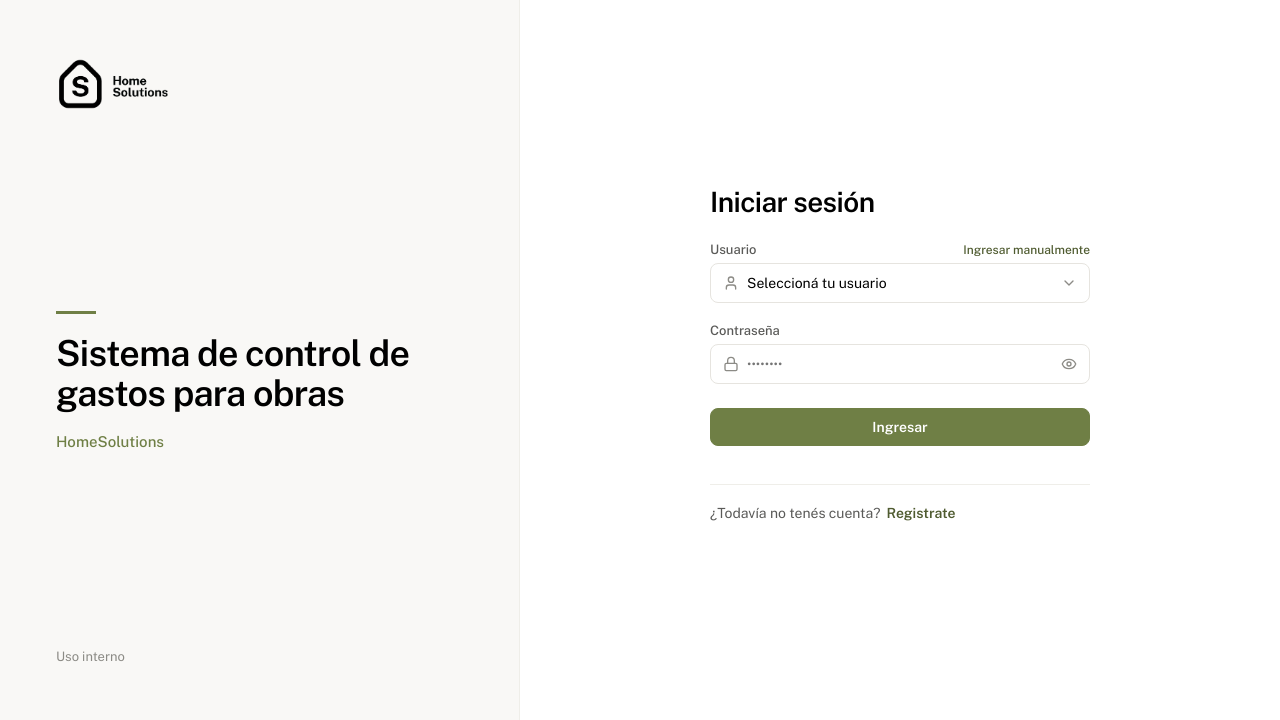
Test: Login › muestra el mensaje real (no genérico) si login falla por un error que no es 401
This screenshot has width=1280, height=720.
Select "Agustin" in the dropdown. click: (900, 283)
box: [747,264,1053,302]
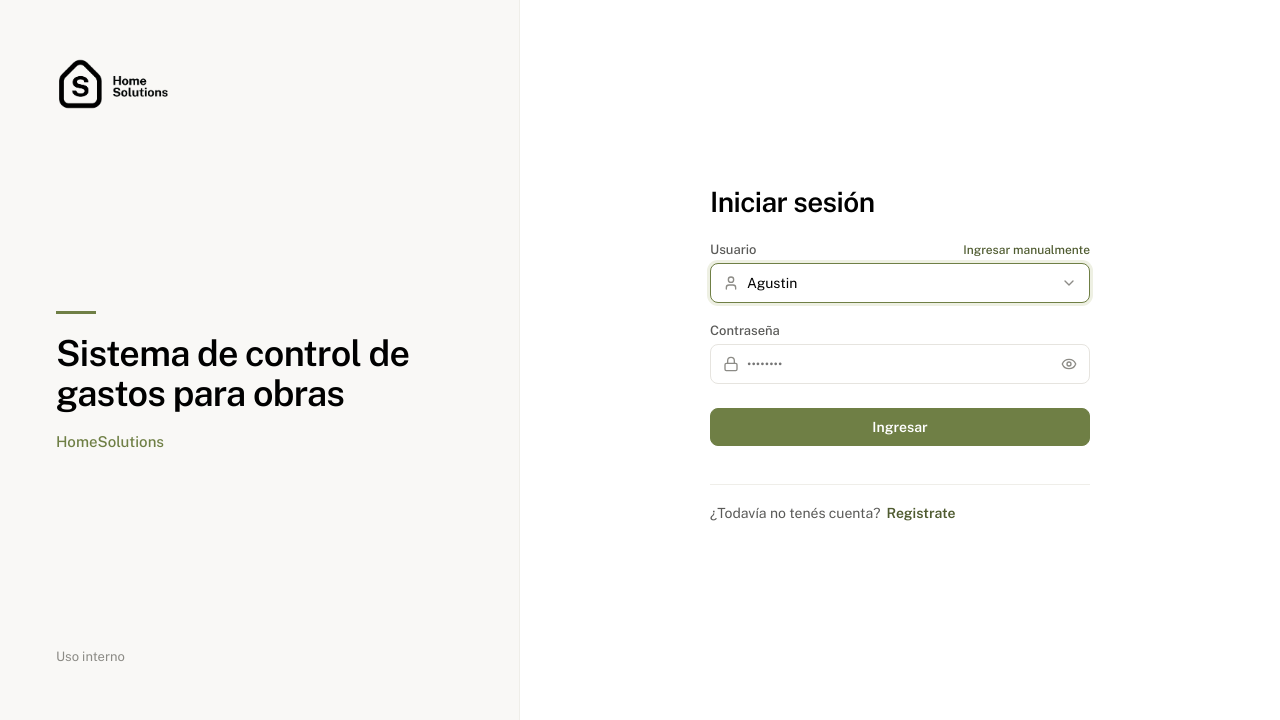
Type "clave-cualquiera" into the password field with placeholder "••••••••". click: (900, 364)
box: [747,345,1053,383]
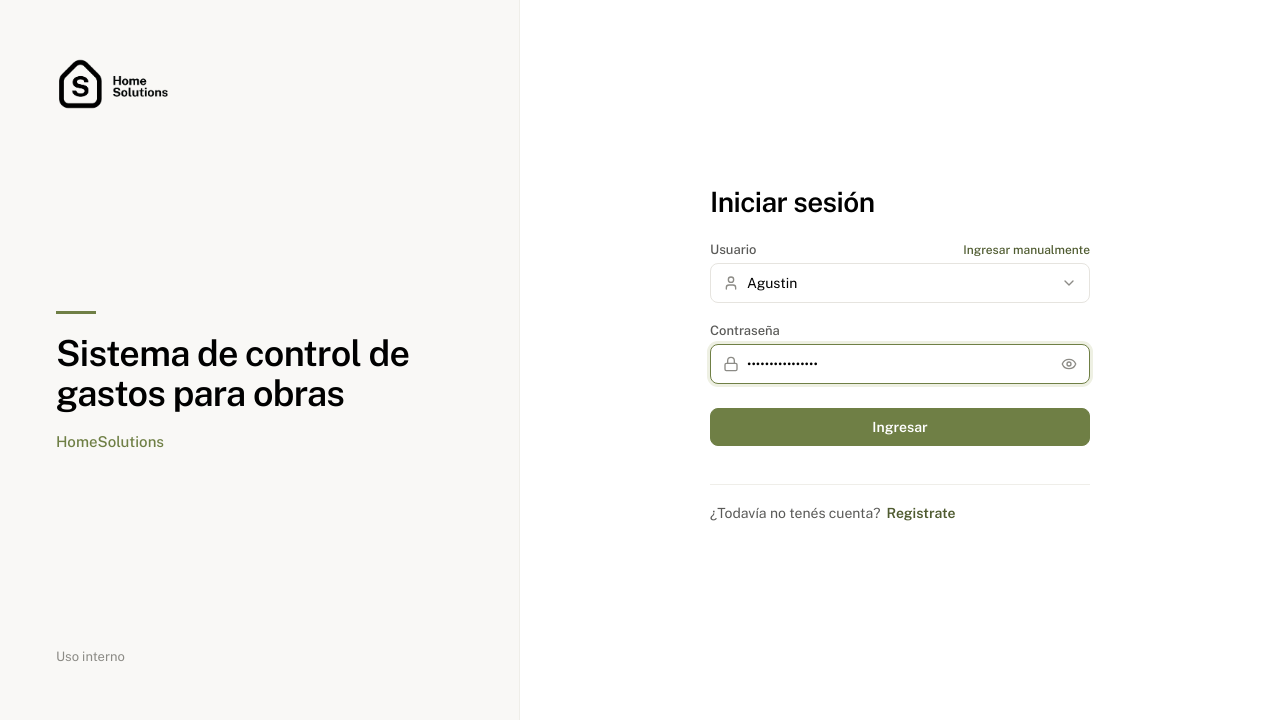
Click the button "Ingresar". click: (900, 427)
box: [710,408,1090,446]
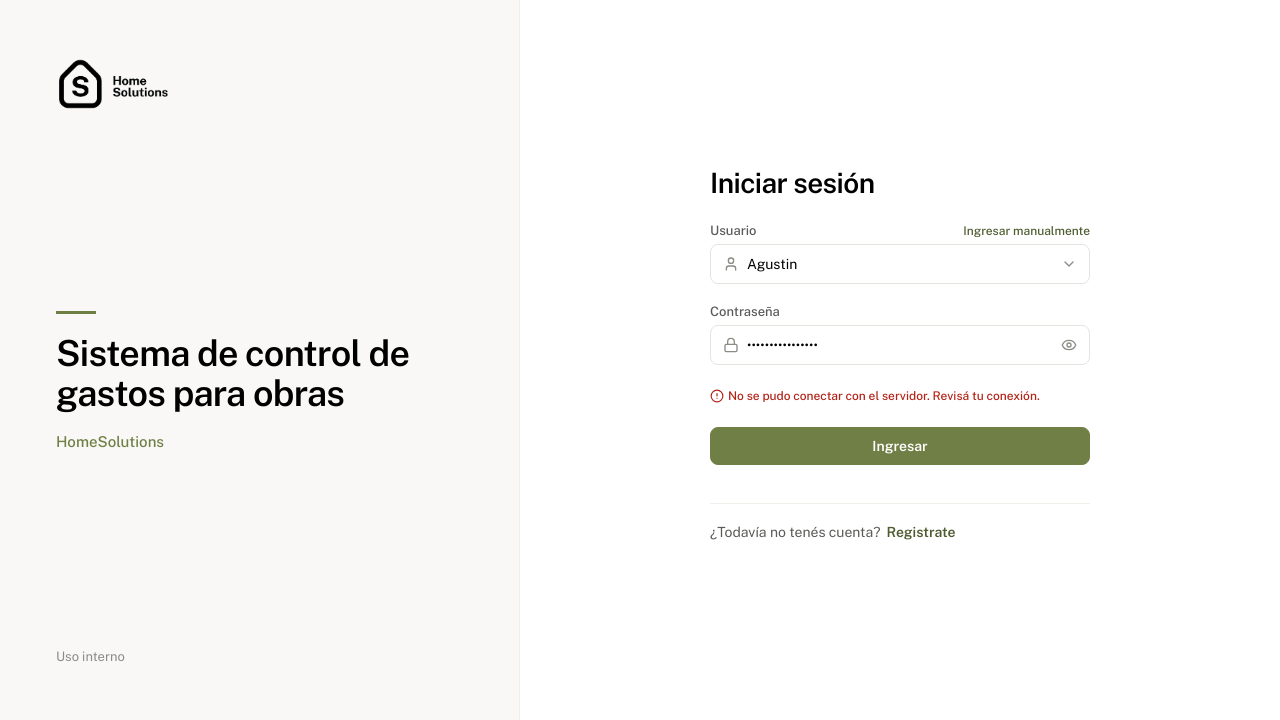
Expected: the text "No se pudo conectar con el servidor. Revisá tu conexión." is shown, [710,389,1090,403]
